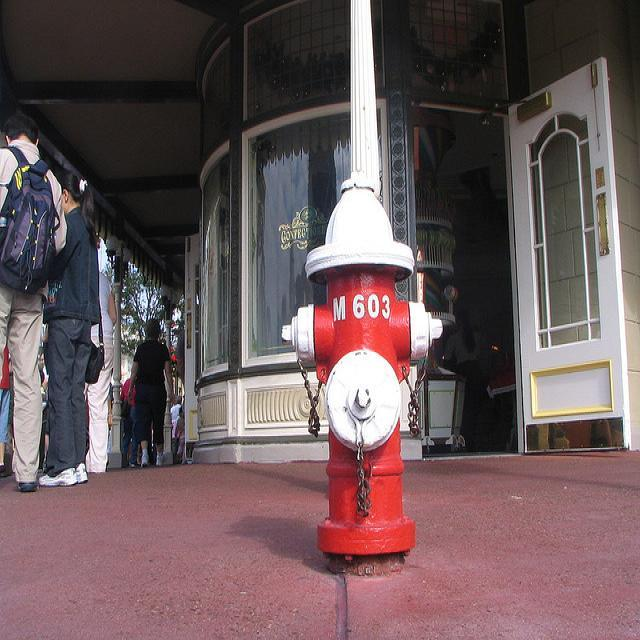fire_hydrant: (280, 170, 440, 578)
